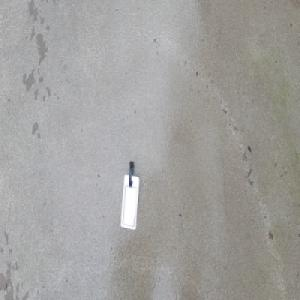LuggageTag: (119, 160, 140, 232)
